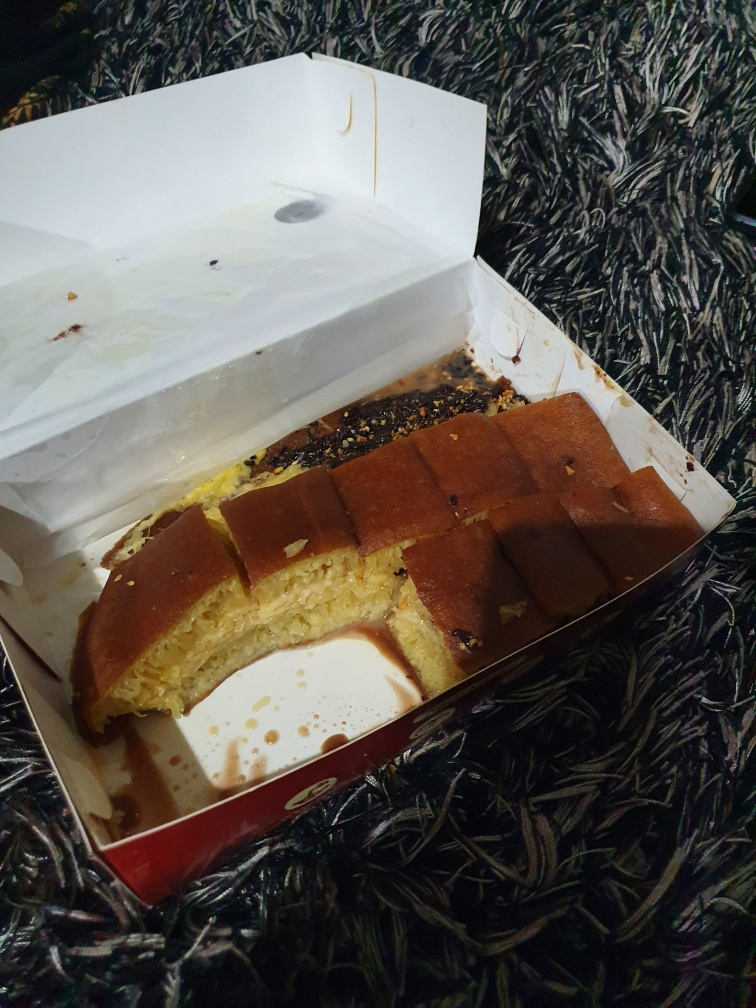martabak manis: (73, 507, 256, 721), (219, 459, 364, 660), (394, 521, 531, 686), (476, 493, 611, 630), (542, 458, 695, 576), (478, 392, 624, 487), (394, 409, 528, 511), (325, 437, 444, 547)
